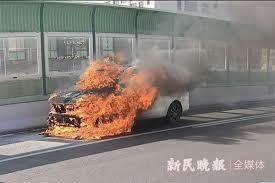fire: (41, 53, 163, 141)
